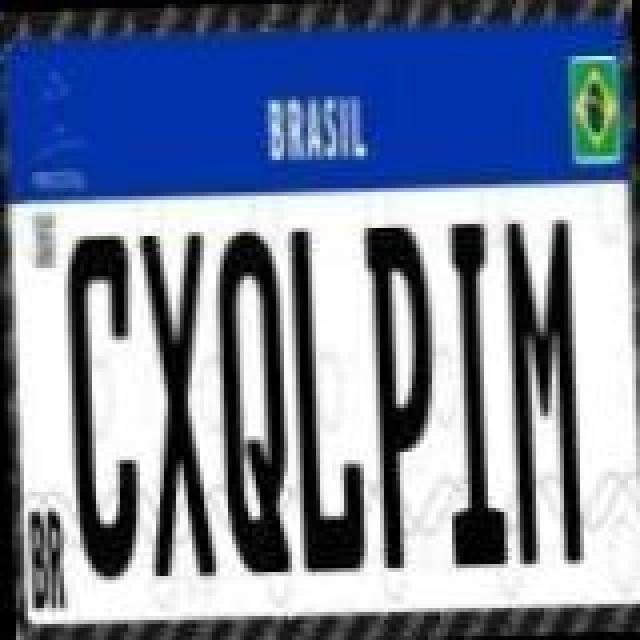C: (60, 228, 140, 580)
I: (432, 220, 504, 568)
L: (284, 224, 364, 576)
M: (500, 216, 580, 568)
P: (360, 222, 440, 574)
Q: (210, 226, 294, 578)
X: (132, 230, 212, 582)
